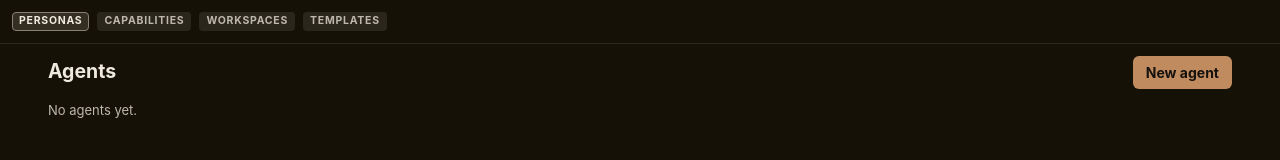
LibrarySurface › switches the active shelf via nav
Check: the text "No agents yet." is shown, box [48, 102, 137, 118]
Click the button "Capabilities" at (144, 21), box [98, 12, 191, 30]
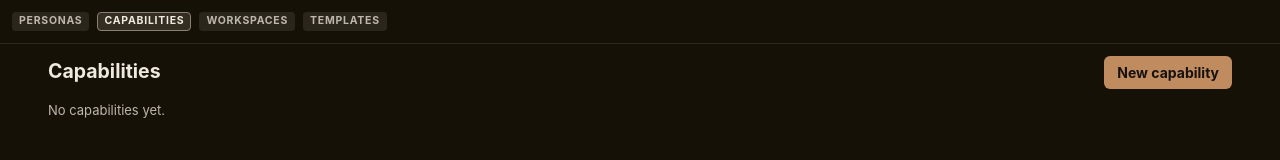
Check: the text "No capabilities yet." is shown, box [48, 102, 165, 118]
Click the button "Workspaces" at (247, 21), box [199, 12, 295, 30]
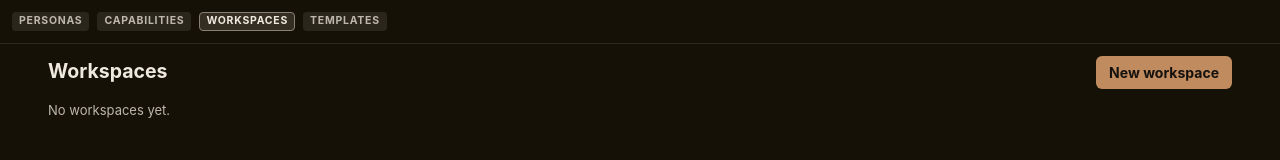
Check: the text "No workspaces yet." is shown, box [48, 102, 170, 118]
Click the button "Templates" at (345, 21), box [303, 12, 387, 30]
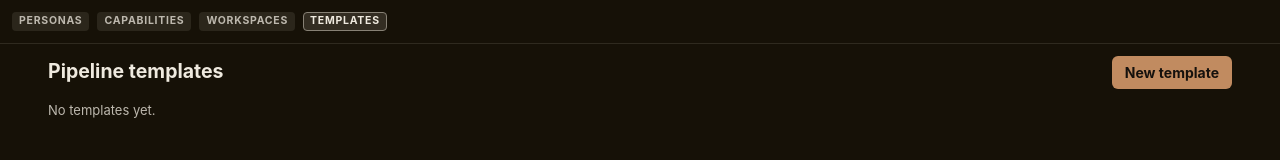
Check: the text "No templates yet." is shown, box [48, 102, 156, 118]
